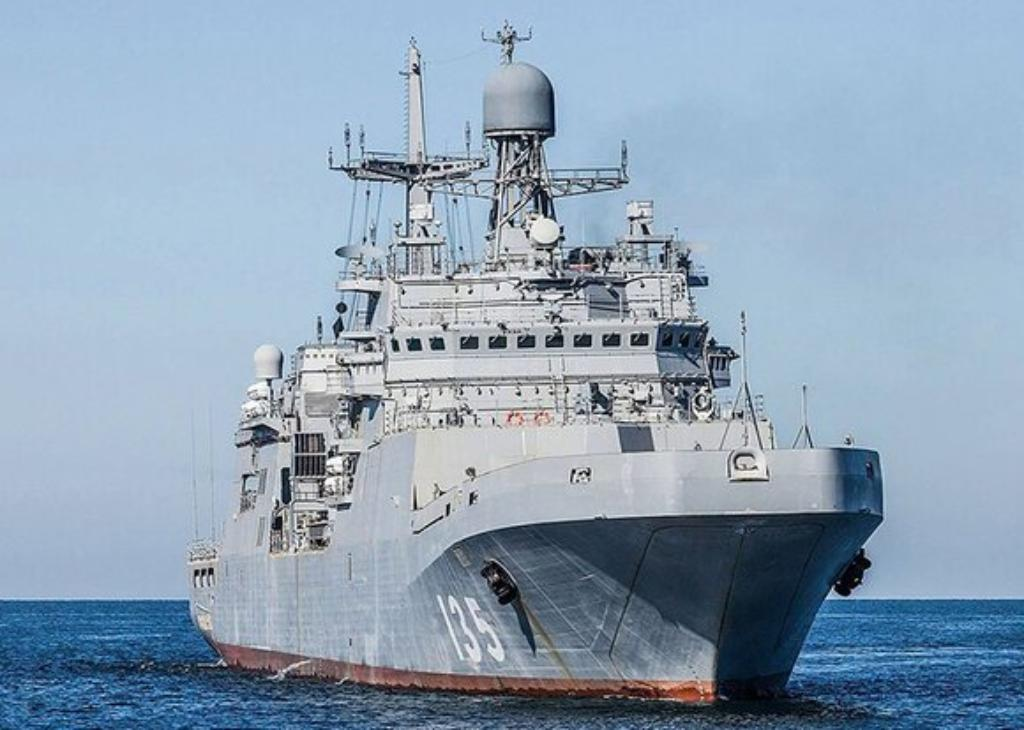Warship: (174, 19, 894, 710)
